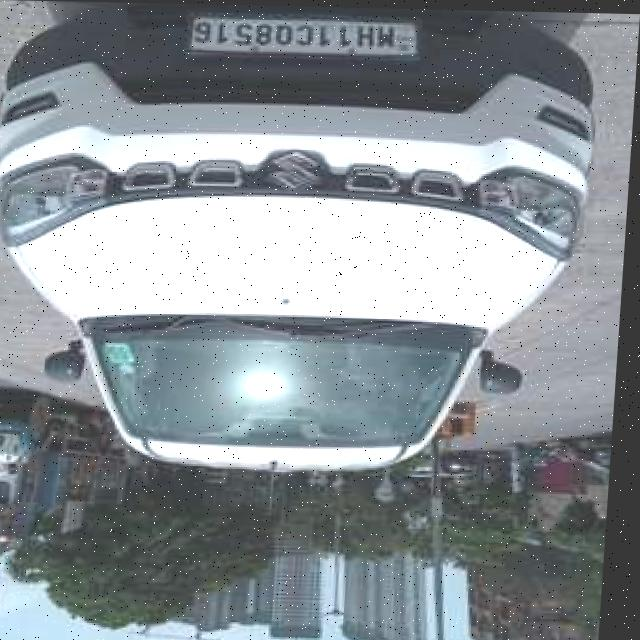plate: (183, 10, 423, 60)
